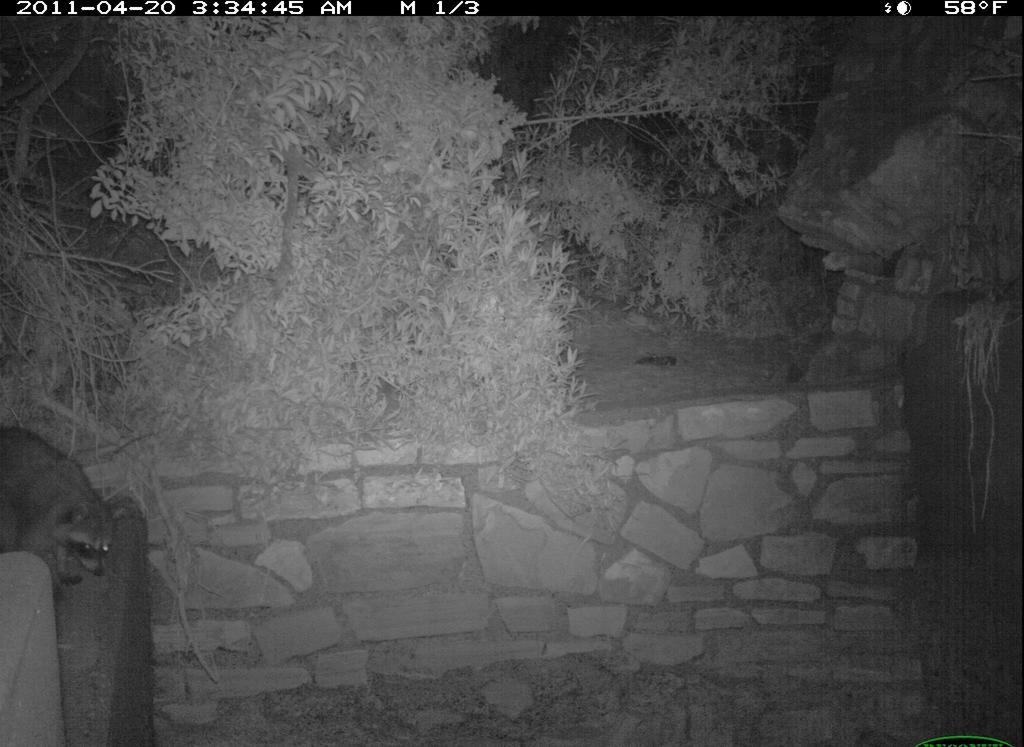raccoon: (1, 424, 135, 591)
